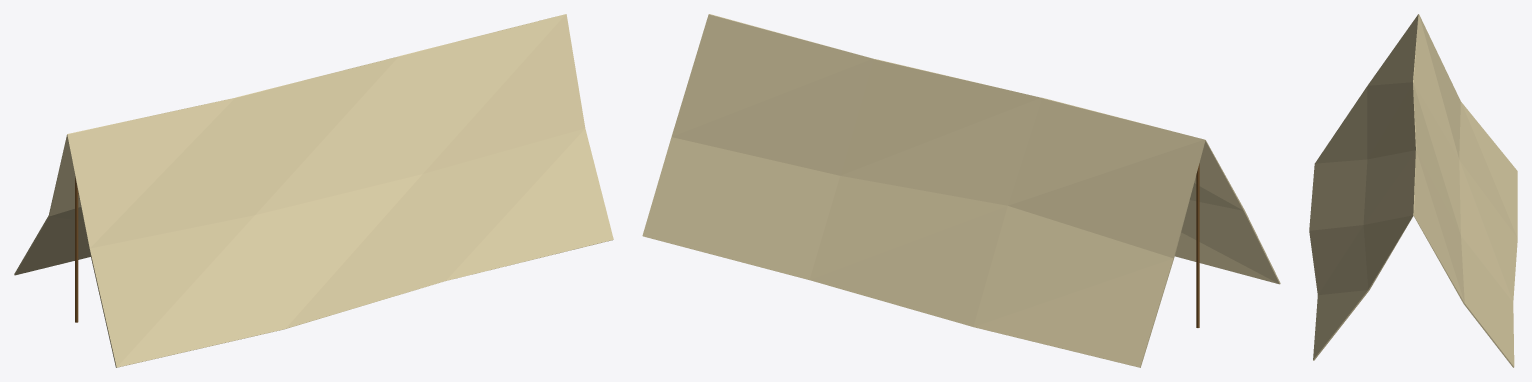
File: tent_01.fbx
The picture shows the model from 3 angles, left to right: view 1: azimuth 30°, elevation 25°; view 2: azimuth 150°, elevation 25°; view 3: azimuth 270°, elevation 25°; orthographic projection. The views are drawn at different scales.
Parts seen in each view (by area): view 1: Tent_01; view 2: Tent_01; view 3: Tent_01.
Boxes of the visible parts, x1=… form: Tent_01: x1=14, y1=14, x2=613, y2=367; Tent_01: x1=642, y1=14, x2=1280, y2=367; Tent_01: x1=1309, y1=14, x2=1517, y2=367.
Bounding box in the file's own units: 106 × 44.1 × 37.3.
